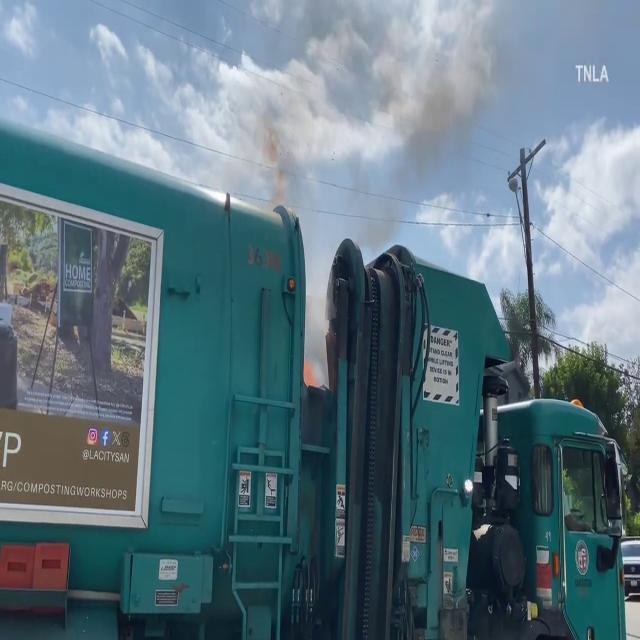Fire: (302, 350, 318, 390)
Smoke: (241, 77, 303, 232)
